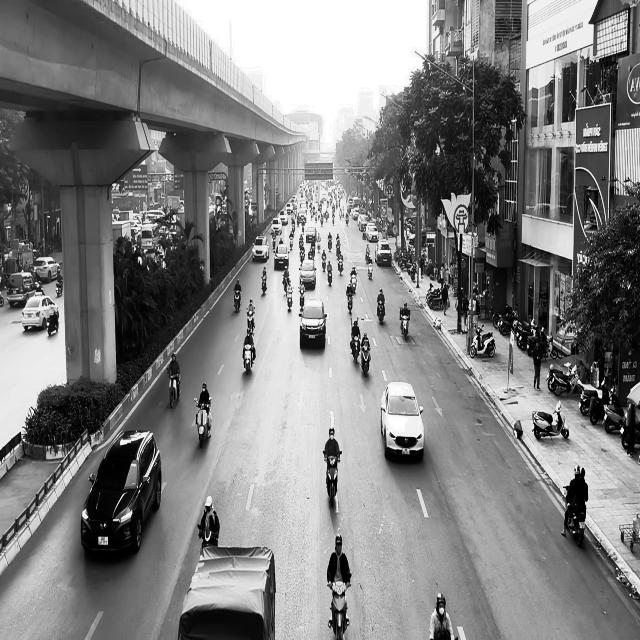car: (81, 429, 162, 555), (380, 381, 425, 461), (300, 299, 328, 349), (252, 236, 270, 261), (274, 243, 289, 270)
motorbike: (562, 485, 587, 547), (532, 400, 570, 440), (328, 578, 352, 639), (324, 451, 342, 507), (194, 396, 212, 448), (470, 323, 496, 358), (168, 369, 182, 408), (243, 339, 256, 374), (361, 344, 371, 377), (351, 334, 362, 363), (400, 312, 410, 339), (286, 284, 294, 310), (247, 307, 255, 333), (346, 289, 354, 313), (378, 300, 386, 323), (234, 289, 242, 312), (300, 281, 306, 307), (350, 274, 357, 294), (327, 268, 333, 286), (262, 273, 267, 294), (368, 260, 373, 280)
